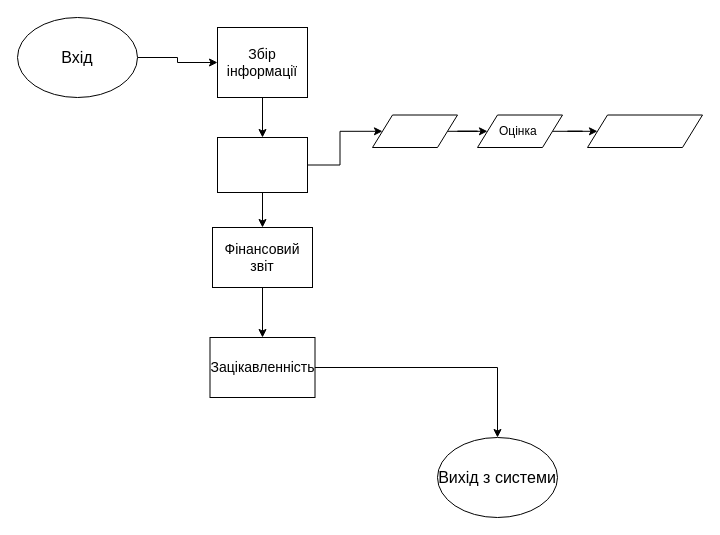
Some shapes in this 720 by 535 pixel diagram are drawn without their labels. The box of each missing label's shape, as (x1, y1, x2, y2) in pixels:
Аналіз: (372, 114, 458, 148)
Документація: (586, 114, 702, 148)
Обробка данних: (216, 136, 308, 192)
